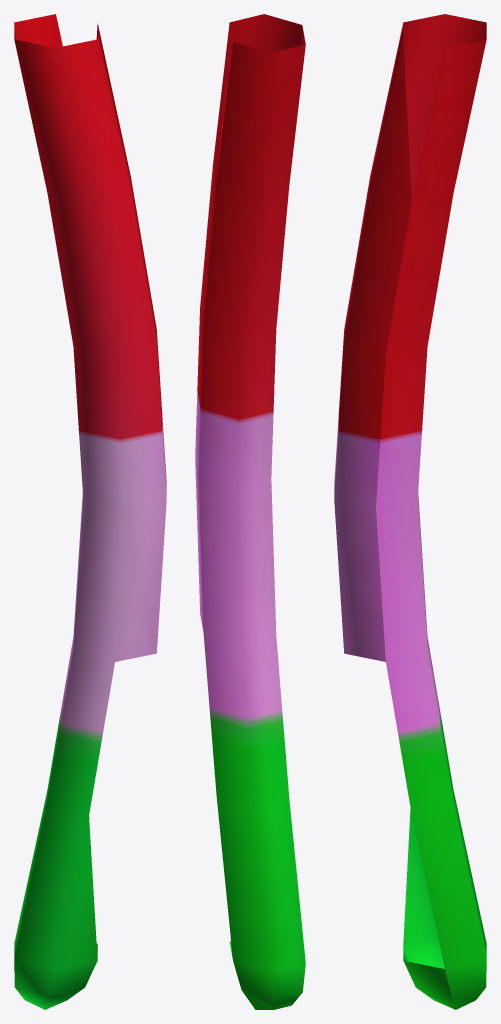
File: pataatrasder.obj
The picture shows the model from 3 angles, left to right: view 1: azimuth 90°, elevation 25°; view 2: azimuth 210°, elevation 25°; view 3: azimuth 270°, elevation 25°; orthographic projection.
Parts seen in each view (by area): view 1: pataatrasder; view 2: pataatrasder; view 3: pataatrasder.
Part boxes in pixels (left/top/right/bottom): pataatrasder: left=14, top=14, right=166, bottom=1009; pataatrasder: left=195, top=14, right=305, bottom=1009; pataatrasder: left=334, top=14, right=486, bottom=1009.
Size of the model in its own units: 0.0241 by 0.3219 by 0.0458.
